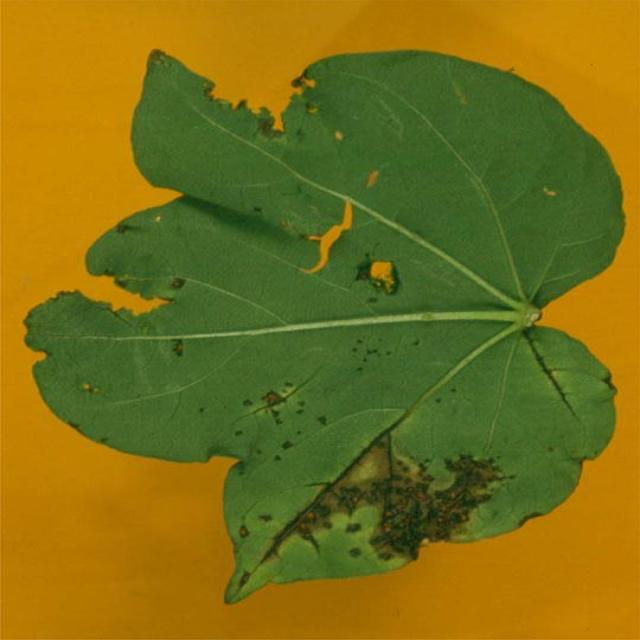Bacterial Blight: (278, 410, 522, 562)
